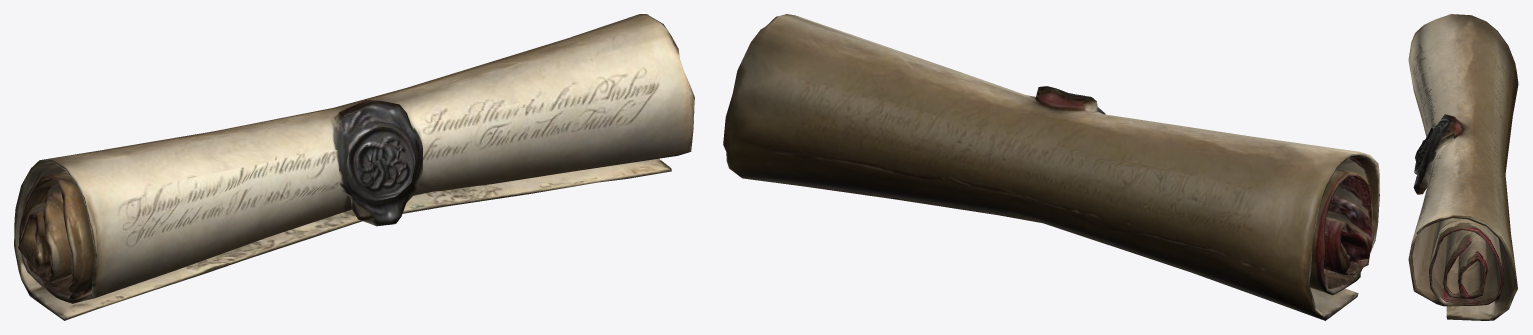
File: Scroll.fbx
3 views of the same model, side by side, from view 1: azimuth 30°, elevation 25°; view 2: azimuth 150°, elevation 25°; view 3: azimuth 270°, elevation 25° (orthographic). The views are drawn at different scales.
Visible parts, largest first — view 1: Mesh_0; view 2: Mesh_0; view 3: Mesh_0.
Part boxes in pixels (x1=…): Mesh_0: x1=14, y1=14, x2=694, y2=320; Mesh_0: x1=723, y1=14, x2=1379, y2=320; Mesh_0: x1=1408, y1=14, x2=1518, y2=320.
Size of the model in its own units: 202 by 45 by 43.21.
Materials: 1 (1 with a texture image).
